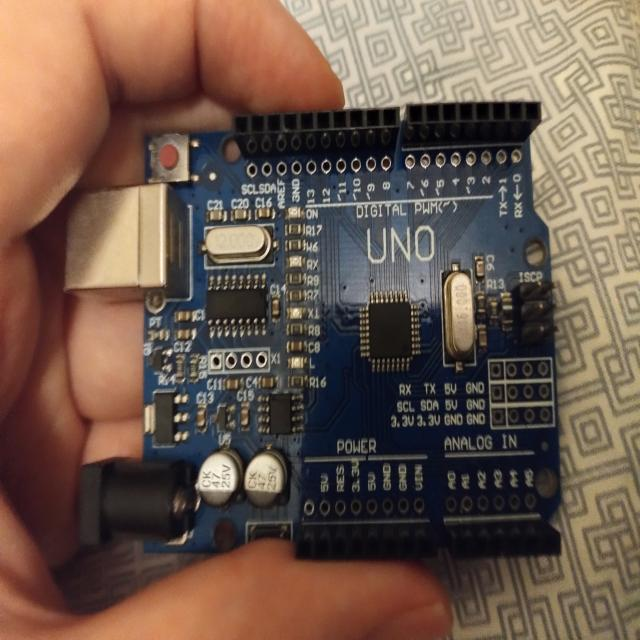arduino: (51, 106, 576, 569)
